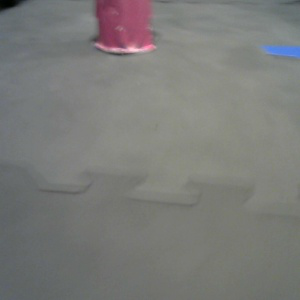middle: (91, 1, 157, 54)
